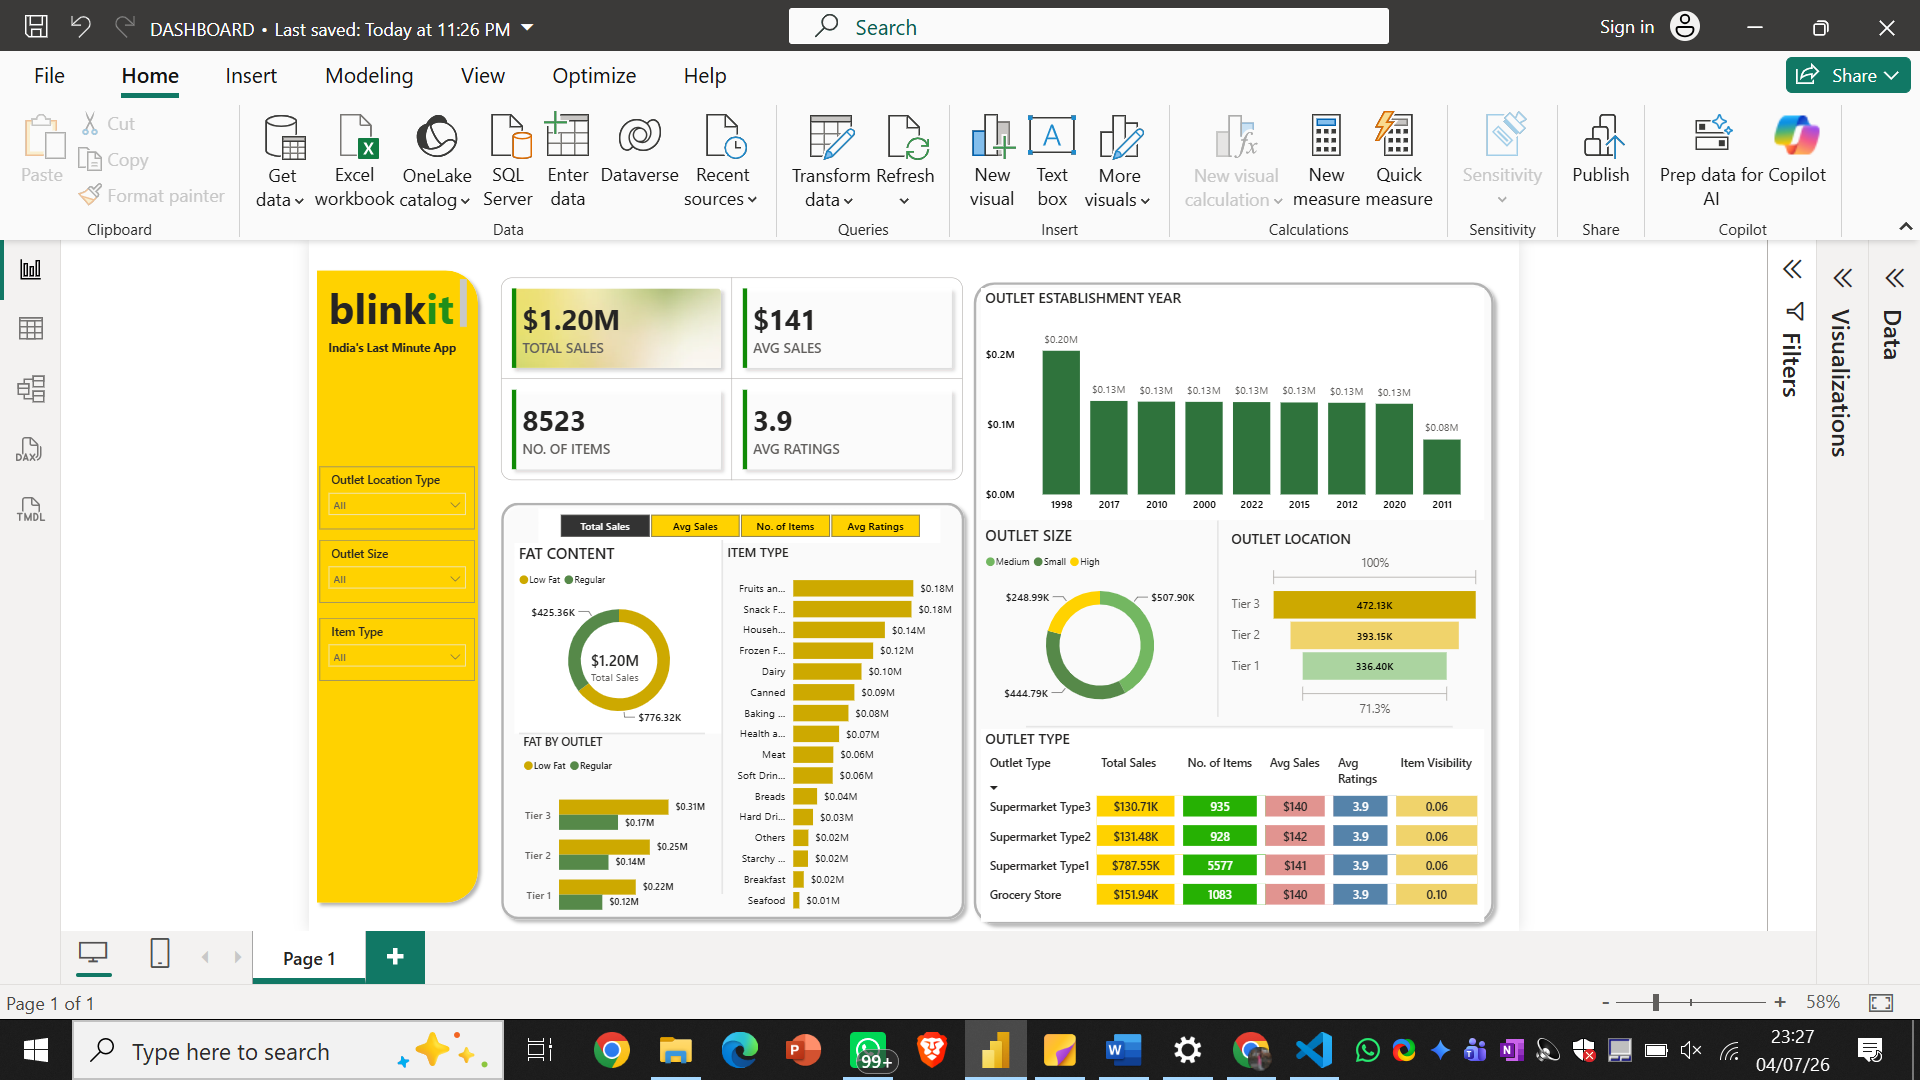

This screenshot's page, from the dashboard's own definition file:
{"tool":"powerbi","page":{"name":"Page 1","canvas":[1400,800],"ordinal":0},"visuals":[{"type":"shape","box":[0,26.9,204.6,750.3],"z":0},{"type":"textbox","box":[17.4,39.9,170.2,69.5],"z":1000},{"type":"textbox","box":[17.4,109.4,175.4,34.7],"z":2000},{"type":"cardVisual","fields":{"Data":["BlinkIT Grocery Data.Total Sales","BlinkIT Grocery Data.Avg Sales","BlinkIT Grocery Data.No. of Items","BlinkIT Grocery Data.Avg Ratings"]},"box":[204.9,26,569.6,269.2],"z":3000},{"type":"shape","box":[213.6,295.2,554,500.2],"z":4000},{"type":"donutChart","title":"FAT CONTENT","fields":{"Y":["BlinkIT Grocery Data.Total Sales"],"Category":["BlinkIT Grocery Data.Item Fat Content"]},"box":[237.9,350.8,241.4,220.6],"z":5000},{"type":"slicer","fields":{"Values":["Metrics.Metrics"]},"box":[265.7,310.9,465.4,39.9],"z":6000},{"type":"cardVisual","fields":{"Data":["BlinkIT Grocery Data.Total Sales"]},"box":[291.8,455,125,78.1],"z":7000},{"type":"clusteredBarChart","title":"FAT BY OUTLET","fields":{"Y":["BlinkIT Grocery Data.Total Sales"],"Category":["BlinkIT Grocery Data.Outlet Location Type"],"Series":["BlinkIT Grocery Data.Item Fat Content"]},"box":[243.1,571.4,220.6,229.2],"z":8000},{"type":"shape","box":[243.1,533.2,215.3,76.4],"z":9000},{"type":"shape","box":[458.5,347.3,39.9,409.9],"z":10000},{"type":"barChart","title":"ITEM TYPE","fields":{"Y":["BlinkIT Grocery Data.Total Sales"],"Category":["BlinkIT Grocery Data.Item Type"]},"box":[479.3,350.8,272.7,437.6],"z":11000},{"type":"shape","box":[760.6,39.3,620.1,760.6],"z":12000},{"type":"donutChart","title":"OUTLET SIZE","fields":{"Y":["BlinkIT Grocery Data.Total Sales"],"Category":["BlinkIT Grocery Data.Outlet Size"]},"box":[777.2,330.7,274.9,227.4],"z":14000},{"type":"funnel","title":"OUTLET LOCATION","fields":{"Y":["Sum(BlinkIT Grocery Data.Sales)"],"Category":["BlinkIT Grocery Data.Outlet Location Type"]},"box":[1062.4,334.8,297.6,223.2],"z":15000},{"type":"shape","box":[1031.4,324.5,41.3,227.4],"z":16000},{"type":"shape","box":[830.9,450.6,494,227.4],"z":17000},{"type":"pivotTable","title":"OUTLET TYPE","fields":{"Rows":["BlinkIT Grocery Data.Outlet Type"],"Values":["BlinkIT Grocery Data.Total Sales","BlinkIT Grocery Data.No. of Items","BlinkIT Grocery Data.Avg Sales","BlinkIT Grocery Data.Avg Ratings","Avg(BlinkIT Grocery Data.Item Visibility)"]},"box":[777.2,566.3,582.9,223.2],"z":17001},{"type":"clusteredColumnChart","title":"OUTLET ESTABLISHMENT YEAR","fields":{"Y":["BlinkIT Grocery Data.Total Sales"],"Category":["BlinkIT Grocery Data.Outlet Establishment Year"]},"box":[777.2,55.8,582.9,268.7],"z":17002}]}

Visuals, with their boxes on the page's 1400x800 design canvas (x1, y1, x2, y2). These are canvas units, not pixel positions in the 1920x1080 screenshot, which may show the page scaled, cropped or inside an application window:
shape: 0 27 205 777
textbox: 17 40 188 109
textbox: 17 109 193 144
cardVisual - BlinkIT Grocery Data.Total Sales x BlinkIT Grocery Data.Avg Sales: 205 26 774 295
shape: 214 295 768 795
"FAT CONTENT" donutChart: 238 351 479 571
slicer - Metrics.Metrics: 266 311 731 351
cardVisual - BlinkIT Grocery Data.Total Sales: 292 455 417 533
"FAT BY OUTLET" clusteredBarChart: 243 571 464 801
shape: 243 533 458 610
shape: 458 347 498 757
"ITEM TYPE" barChart: 479 351 752 788
shape: 761 39 1381 800
"OUTLET SIZE" donutChart: 777 331 1052 558
"OUTLET LOCATION" funnel: 1062 335 1360 558
shape: 1031 324 1073 552
shape: 831 451 1325 678
"OUTLET TYPE" pivotTable: 777 566 1360 790
"OUTLET ESTABLISHMENT YEAR" clusteredColumnChart: 777 56 1360 324
